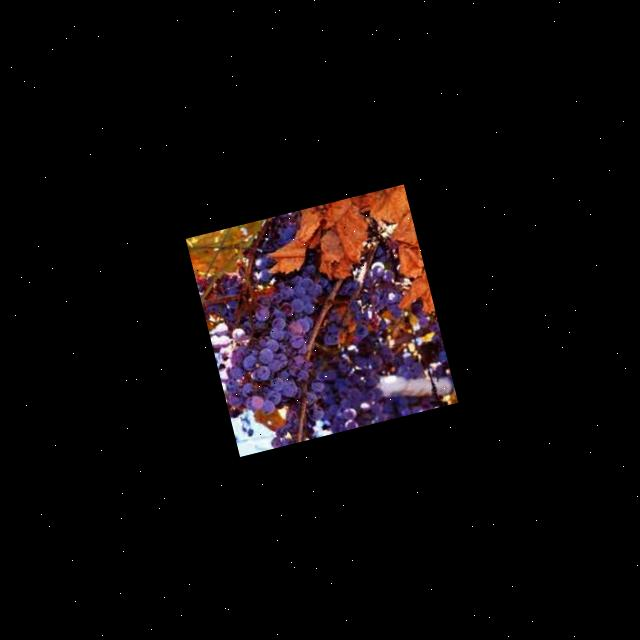grape: (184, 184, 456, 456)
